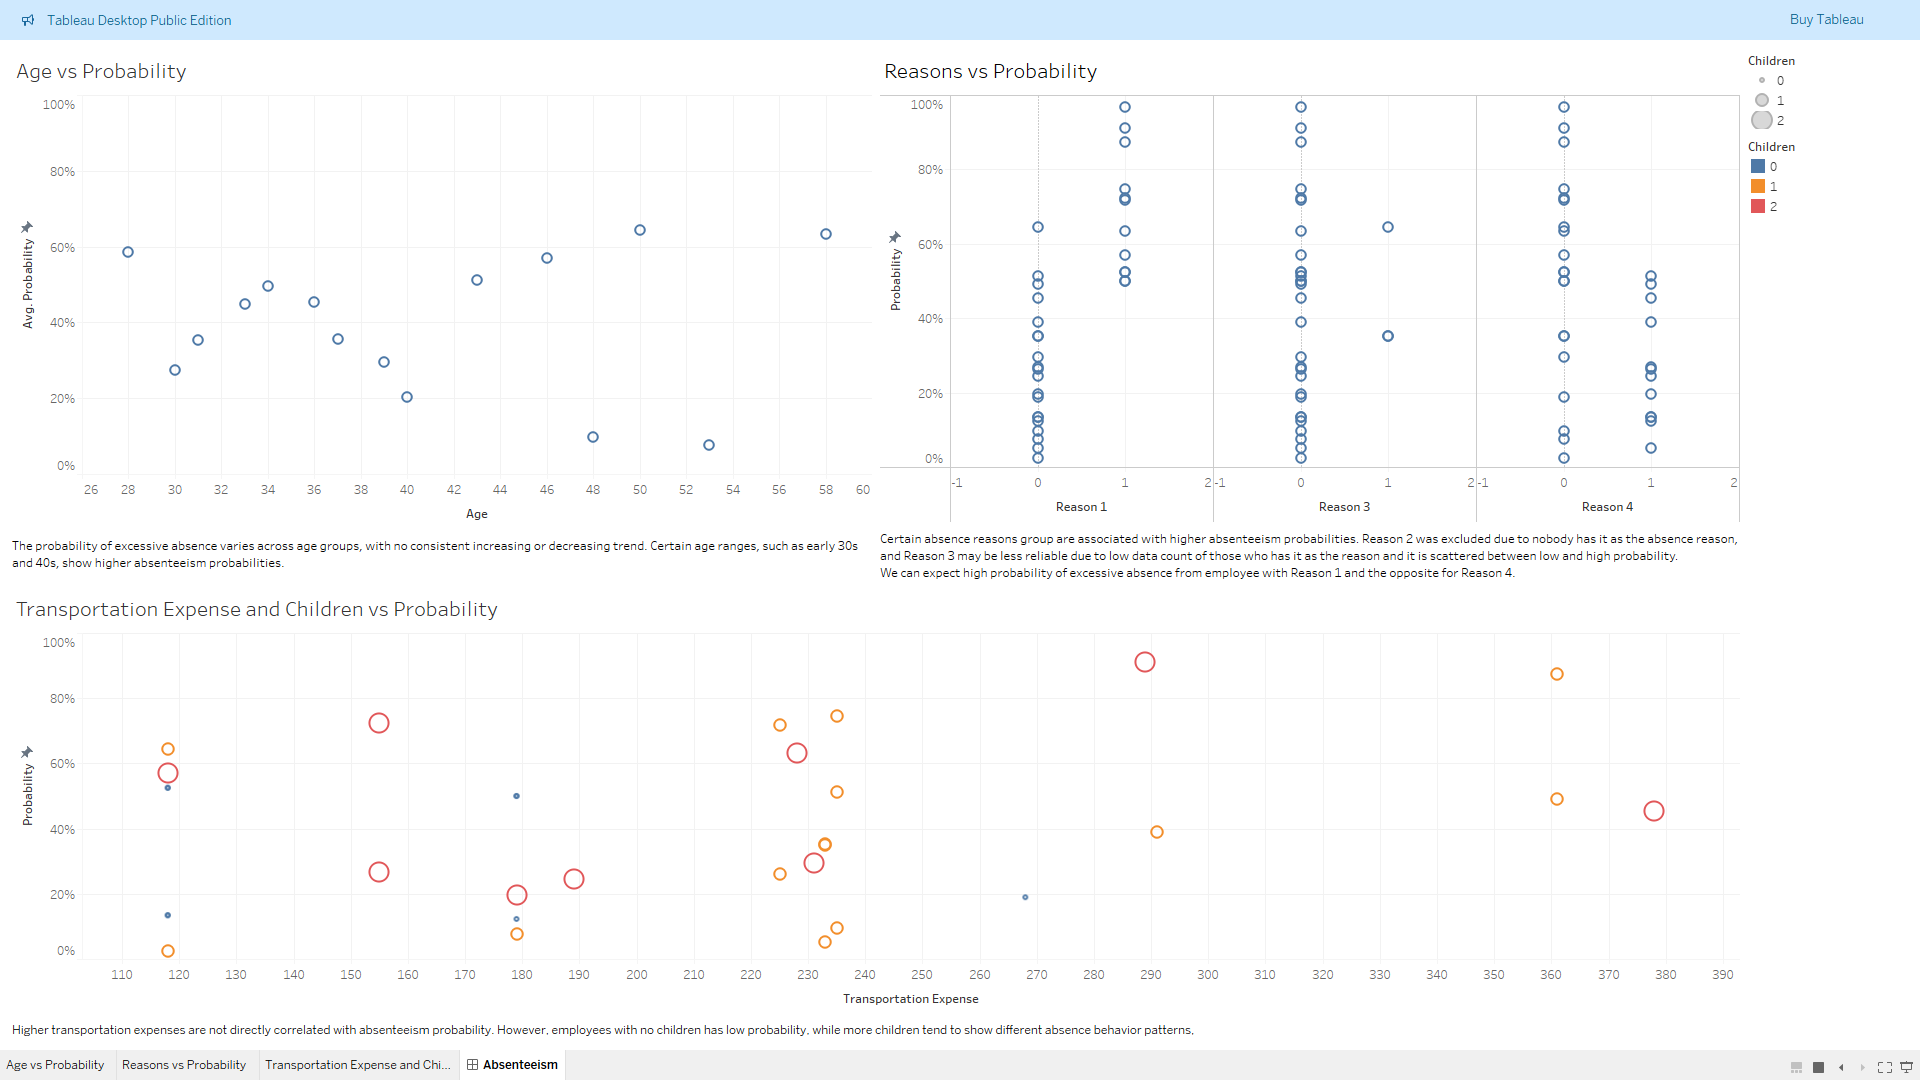

The page's visual inventory and layout, read from the dashboard file:
{"tool":"tableau","page":{"name":"Absenteeism","canvas":[1000,1000],"units":"permille","ordinal":0},"visuals":[{"type":"worksheet","title":"Age vs Probability","mark":"Shape","rows":["probability"],"cols":["age"],"box":[4.7,9.3,446.1,531.5]},{"type":"worksheet","title":"Reasons vs Probability","mark":"Shape","rows":["probability"],"cols":["reason_1","reason_3","reason_4"],"box":[450.8,9.3,446.2,531.5]},{"type":"legend","title":"Transportation Expense and Children vs Probability","param":"[federated.1pu691w11whgpf15q4dm21q0jkkw].[none:children:ok]","box":[897,9.3,98.3,100.5]},{"type":"legend","title":"Transportation Expense and Children vs Probability","param":"[federated.1pu691w11whgpf15q4dm21q0jkkw].[none:children:ok]","box":[897,109.8,98.3,100.5]},{"type":"worksheet","title":"Transportation Expense and Children vs Probability","mark":"Shape","rows":["probability"],"cols":["transportation_expense"],"box":[4.7,540.9,892.3,449.8]}]}

Visuals, with their boxes on the dashboard's canvas, which has no fixed pixel size, in thousandths of its width and height (x1, y1, x2, y2). These are canvas units, not pixel positions in the 1920x1080 screenshot, which may show the page scaled, cropped or inside an application window:
"Age vs Probability" worksheet (Shape marks): (5,9,451,541)
"Reasons vs Probability" worksheet (Shape marks): (451,9,897,541)
"Transportation Expense and Children vs Probability" legend: (897,9,995,110)
"Transportation Expense and Children vs Probability" legend: (897,110,995,210)
"Transportation Expense and Children vs Probability" worksheet (Shape marks): (5,541,897,991)
